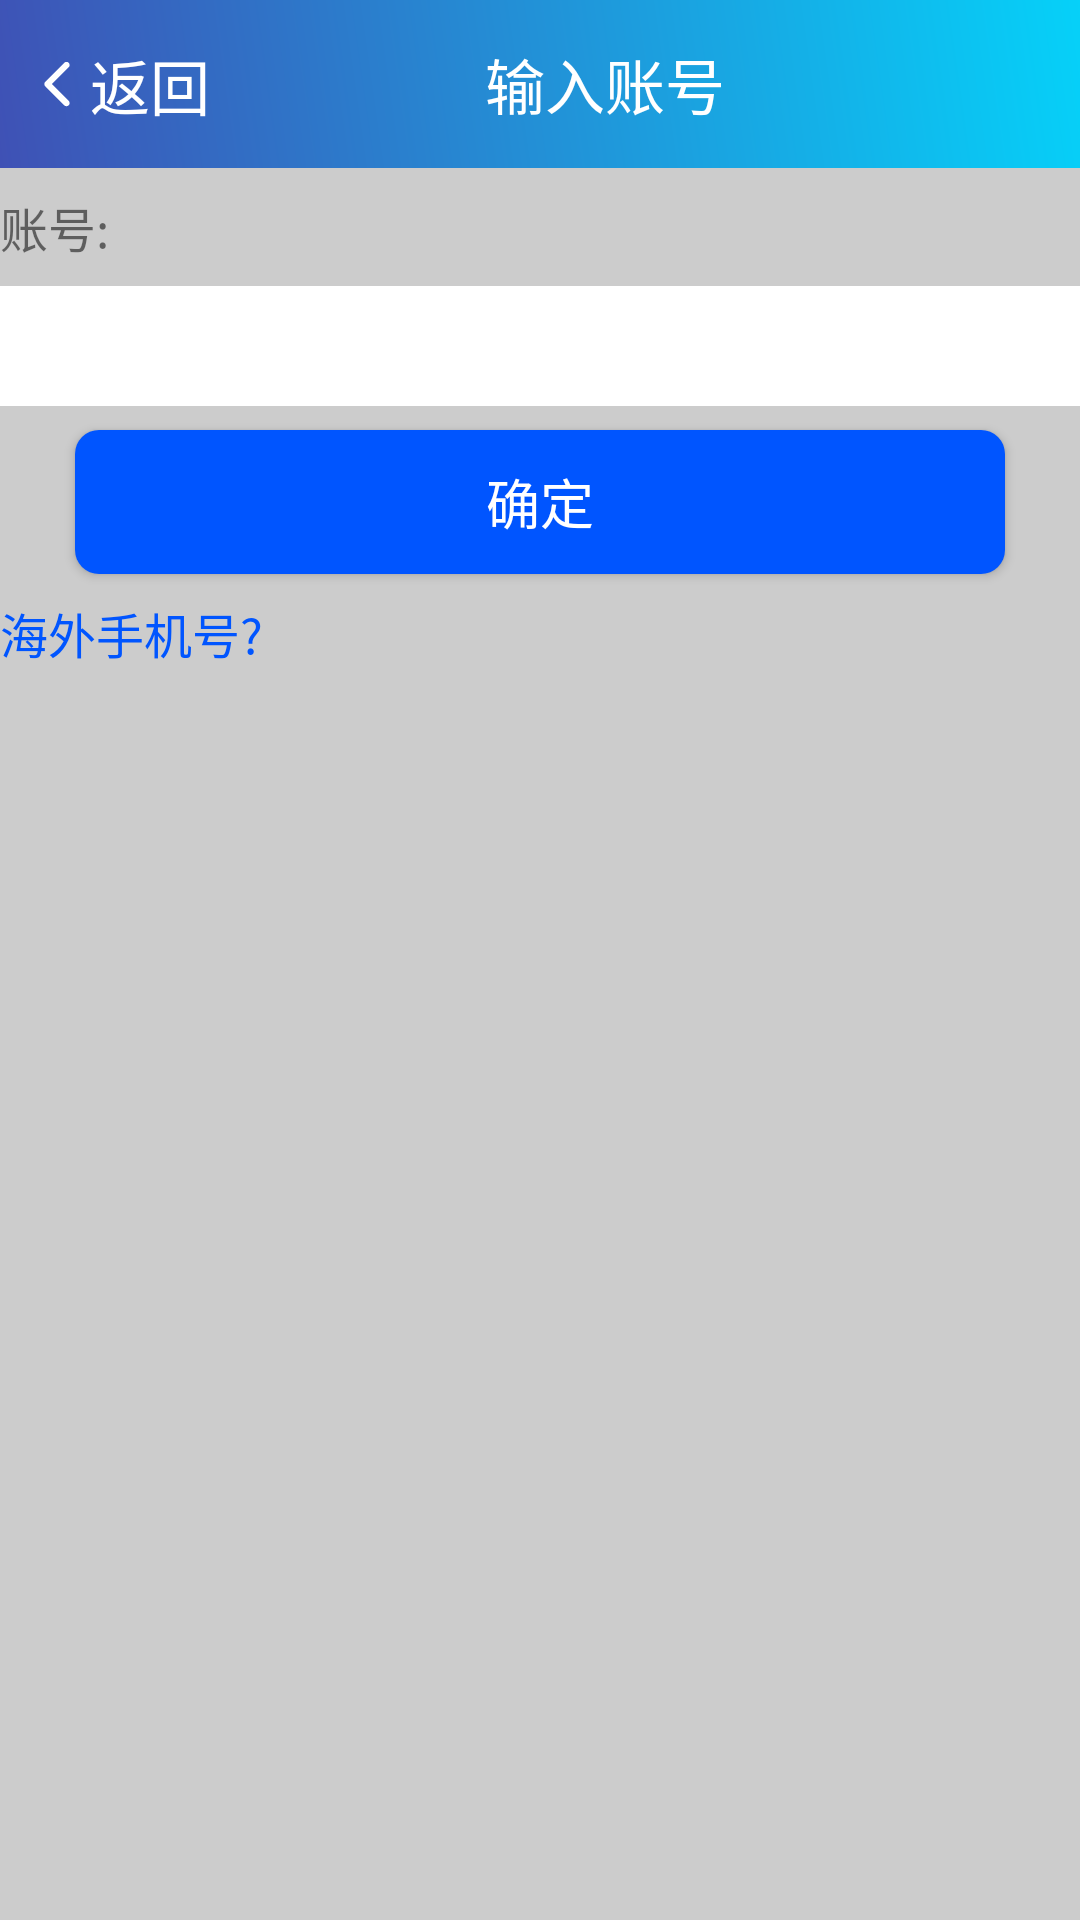

Named icons in this screenshot (1080x1920) and their bounding boxes, (x1, y1, x2, y2):
left: (44, 62, 70, 107)
